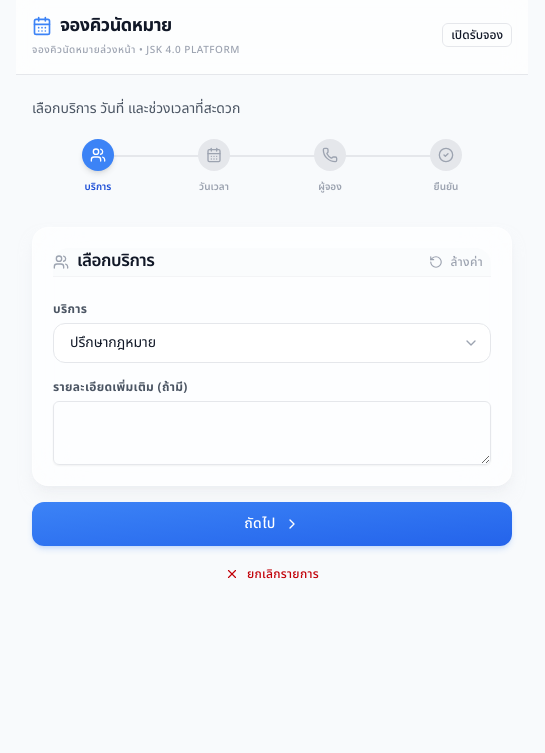
Test case: date selection › marks full days เต็ม and closed days หยุด with a legend
Select "ปรึกษากฎหมาย" in the dropdown named "เลือกบริการ" at [272, 343], box left=53, top=323, right=491, bottom=363
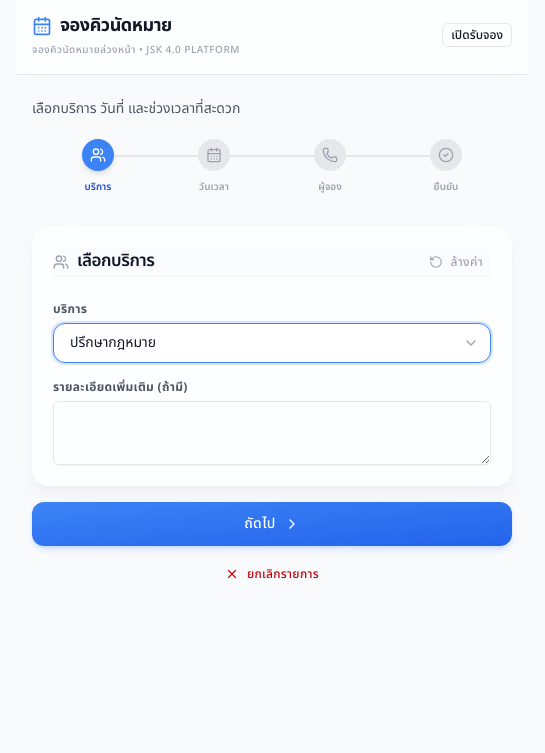
Click the button "ถัดไป" at [272, 524], box left=32, top=502, right=512, bottom=546
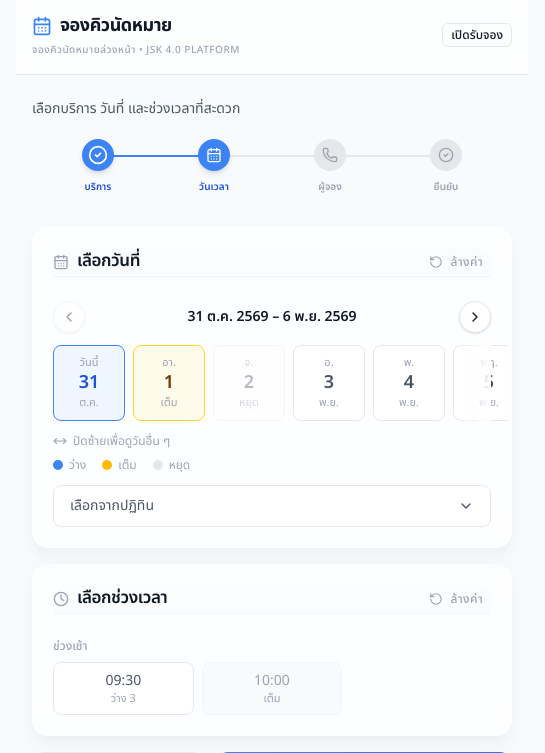
Expected: the text "เต็ม" below "31 ต.ค. 2569 – 6 พ.ย. 2569" is shown, left=160, top=394, right=177, bottom=411
Expected: the text "หยุด" is shown, left=239, top=394, right=259, bottom=411
Expected: the element named "คำอธิบายสถานะวันจอง" is shown, left=53, top=456, right=190, bottom=474
